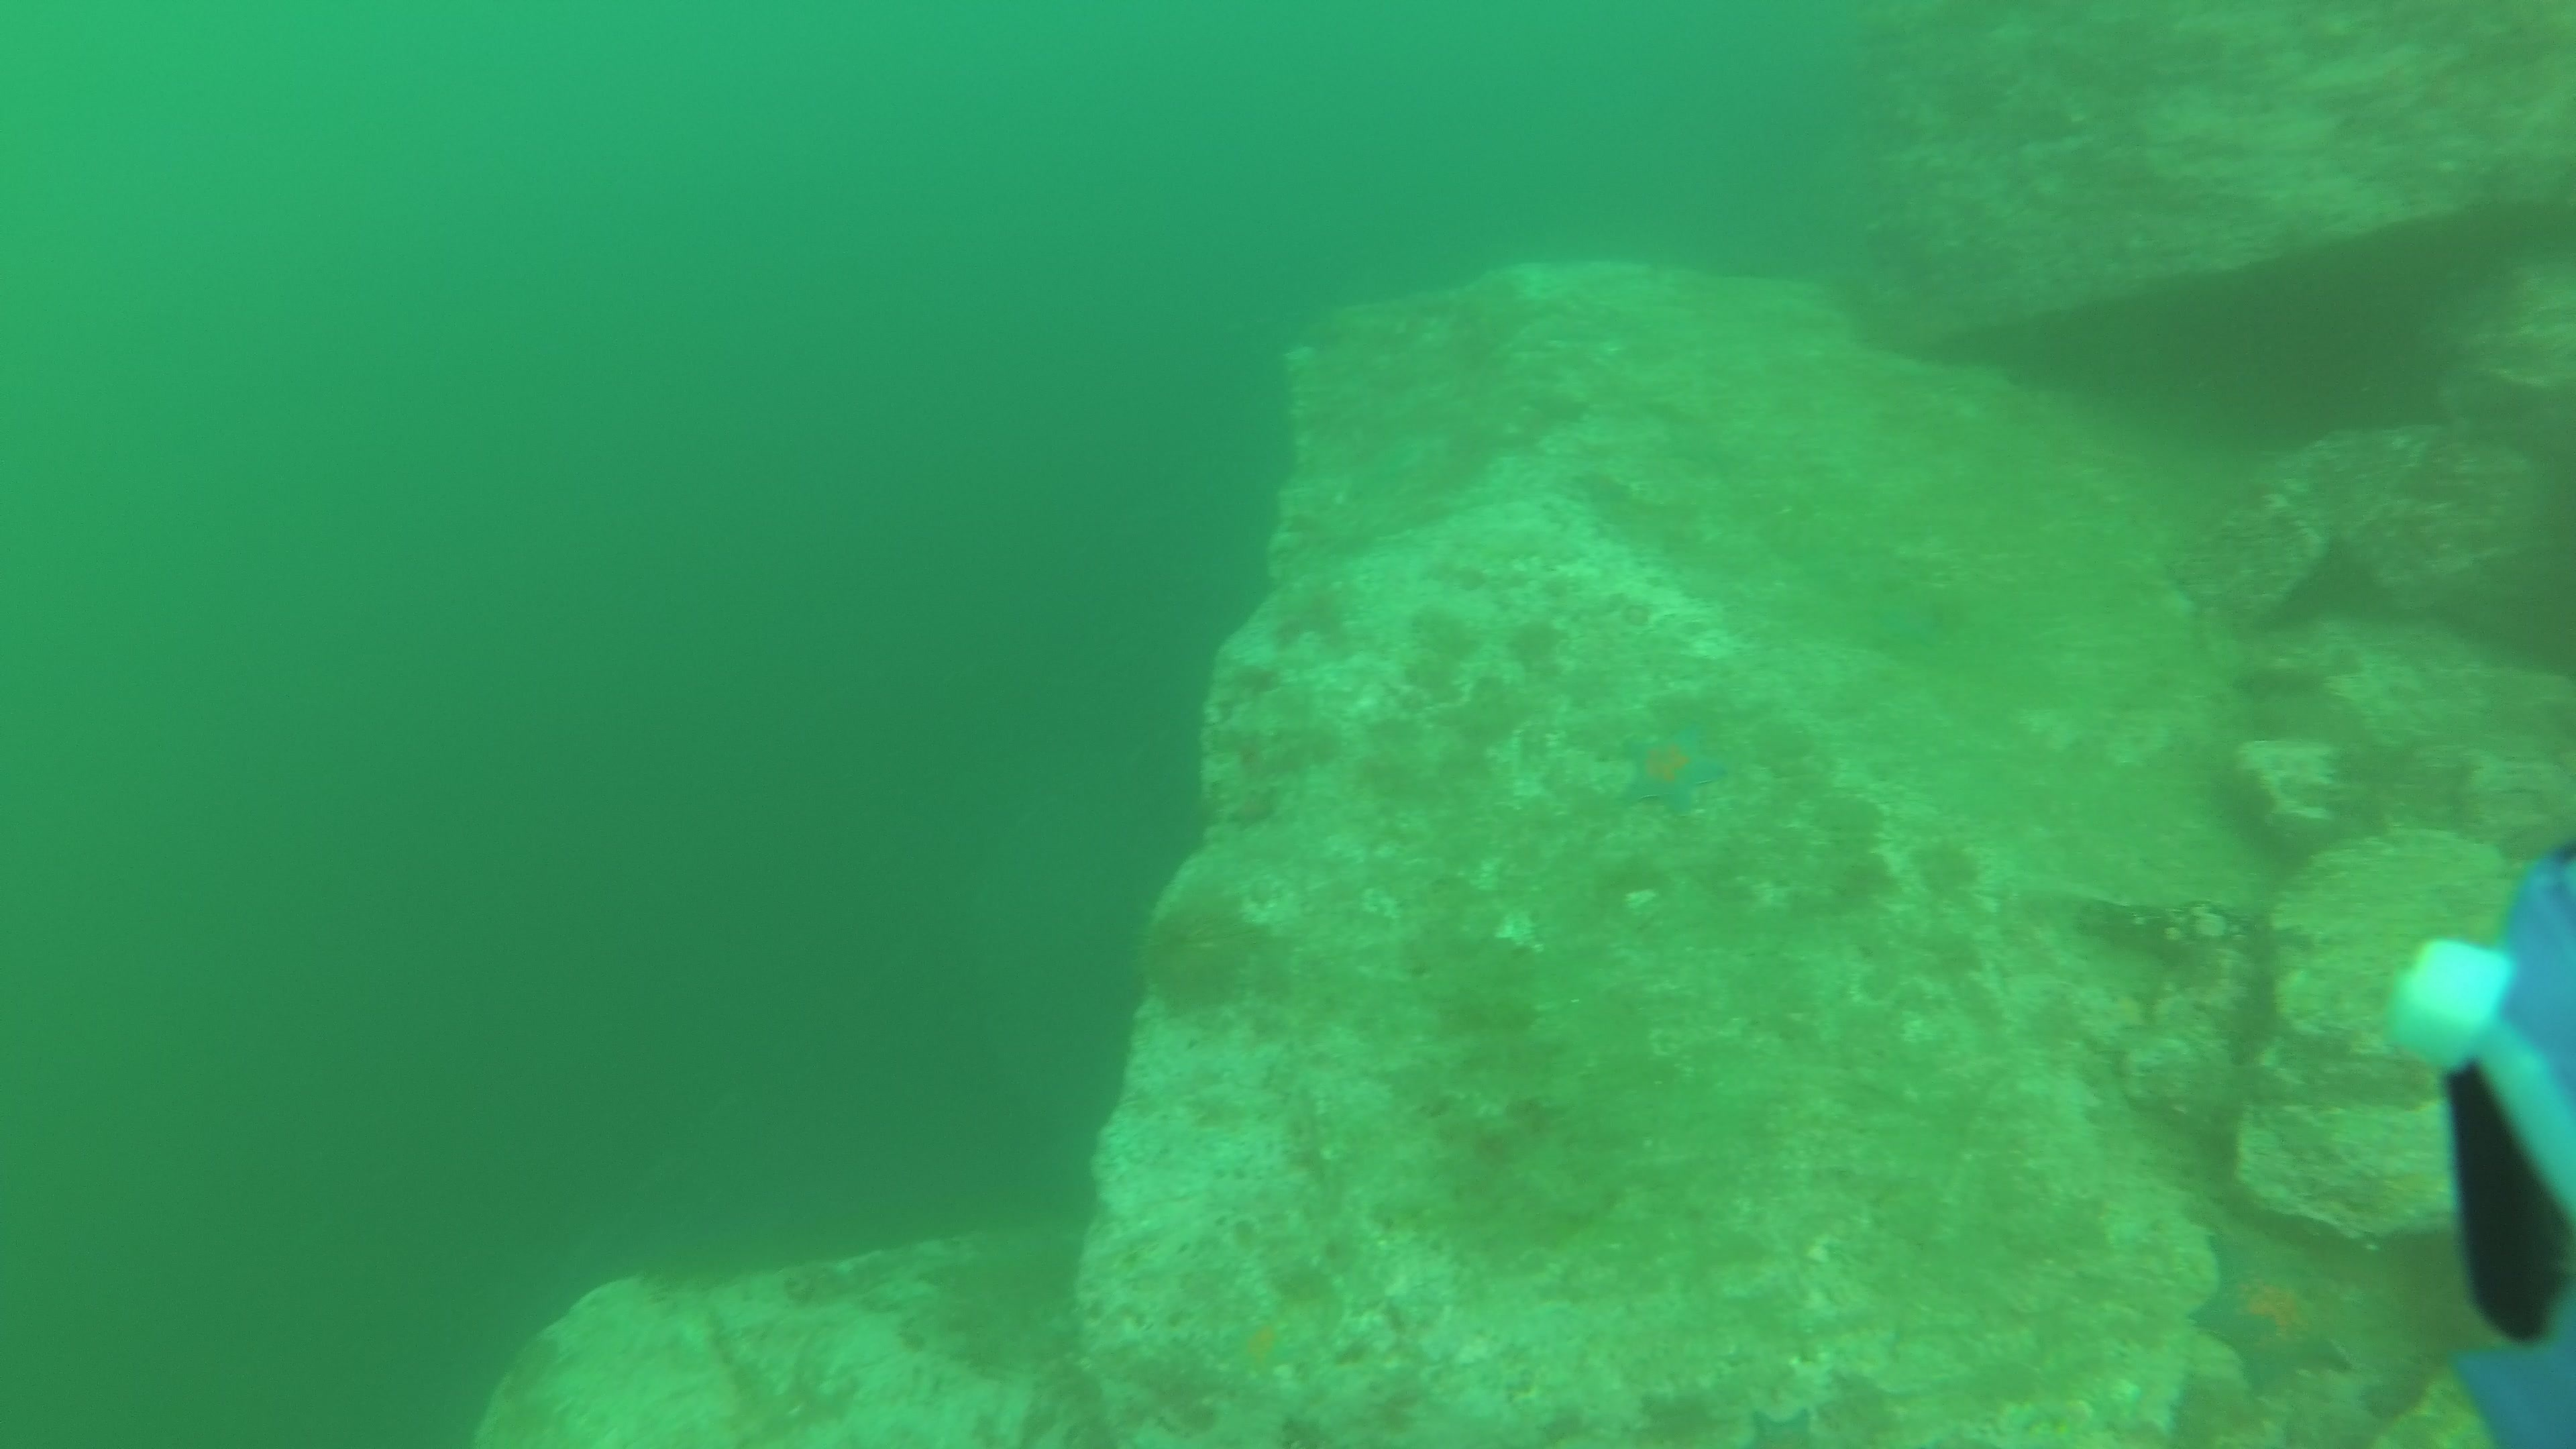echinus: (1127, 883, 1272, 1026)
starfish: (2185, 1224, 2358, 1405), (1615, 718, 1729, 823), (1215, 1306, 1299, 1389)
